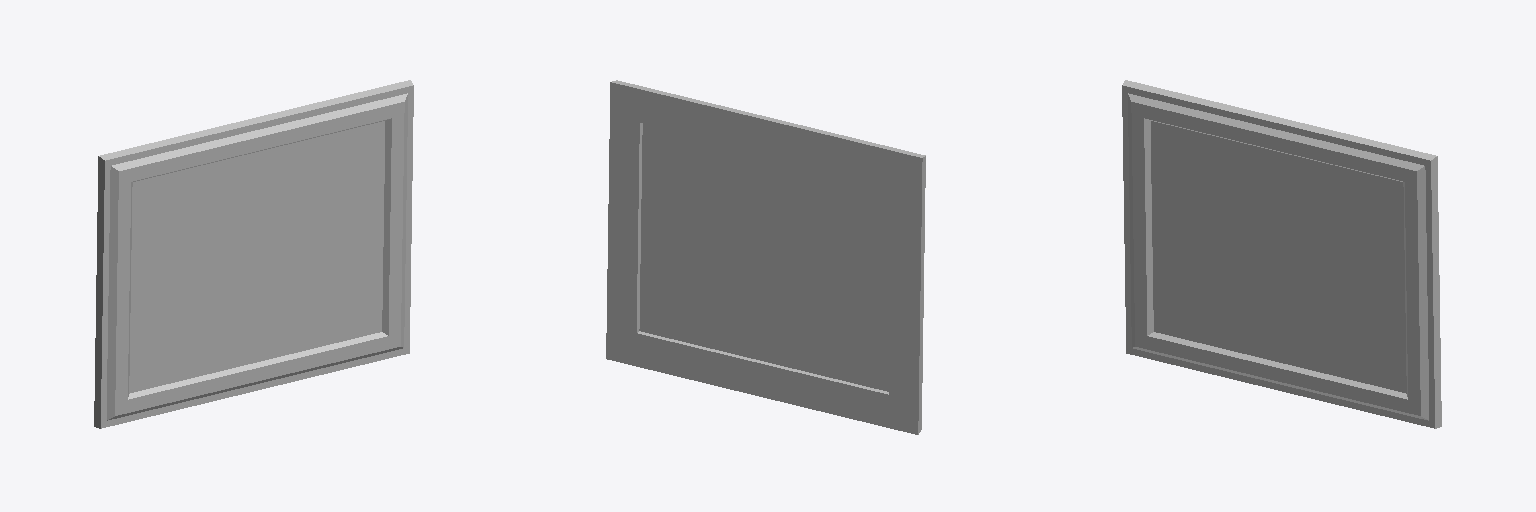
The model's file is frame_horizontal.obj.
The picture shows the model from 3 angles: view 1: azimuth 30°, elevation 25°; view 2: azimuth 150°, elevation 25°; view 3: azimuth 330°, elevation 25°; orthographic projection.
Visible parts, largest first — view 1: 1_1, 4_4, 6_6, 3_3; view 2: 2_2, 5_5, 6_6; view 3: 1_1, 4_4, 6_6, 3_3.
Part boxes in pixels (left/top/right/bottom): 1_1: left=129, top=121, right=384, bottom=393; 4_4: left=107, top=93, right=407, bottom=420; 6_6: left=94, top=80, right=413, bottom=428; 3_3: left=128, top=118, right=391, bottom=399; 2_2: left=639, top=123, right=891, bottom=391; 5_5: left=606, top=82, right=922, bottom=434; 6_6: left=612, top=80, right=925, bottom=434; 1_1: left=1151, top=121, right=1406, bottom=393; 4_4: left=1128, top=93, right=1428, bottom=420; 6_6: left=1122, top=80, right=1441, bottom=428; 3_3: left=1144, top=118, right=1407, bottom=399.
Bounding box in the file's own units: 155 × 130 × 10.